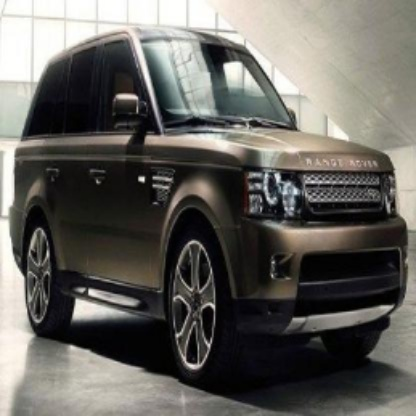Vehicle: (10, 25, 411, 392)
